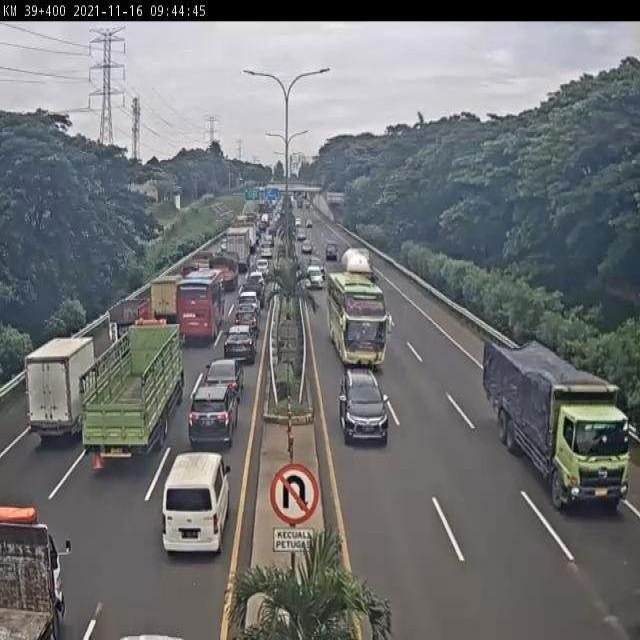big bus: (328, 272, 394, 371), (176, 273, 225, 344)
car: (341, 368, 390, 449), (188, 386, 236, 451), (204, 361, 245, 403), (221, 329, 253, 368), (232, 308, 259, 335), (236, 288, 261, 316)
small bus: (160, 458, 229, 558)
small truck: (146, 276, 180, 332)
truck-l-: (482, 336, 631, 516), (79, 329, 181, 468)
truck-m-: (22, 337, 95, 443), (105, 300, 152, 343)
